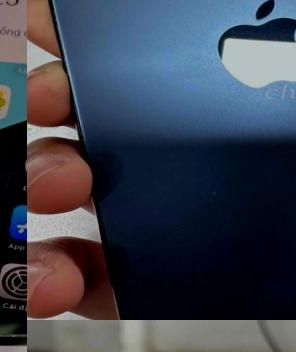scratch: (0, 321, 27, 345), (204, 184, 224, 199), (271, 142, 288, 151)
